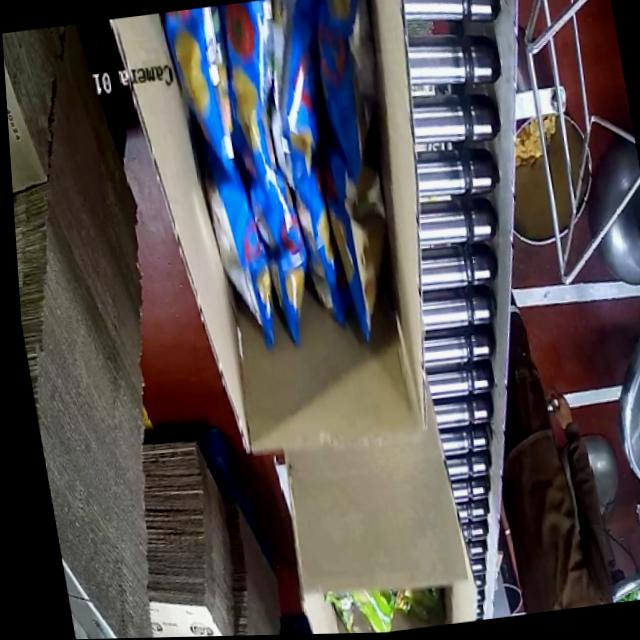PAPRIKA: (156, 0, 420, 373)
